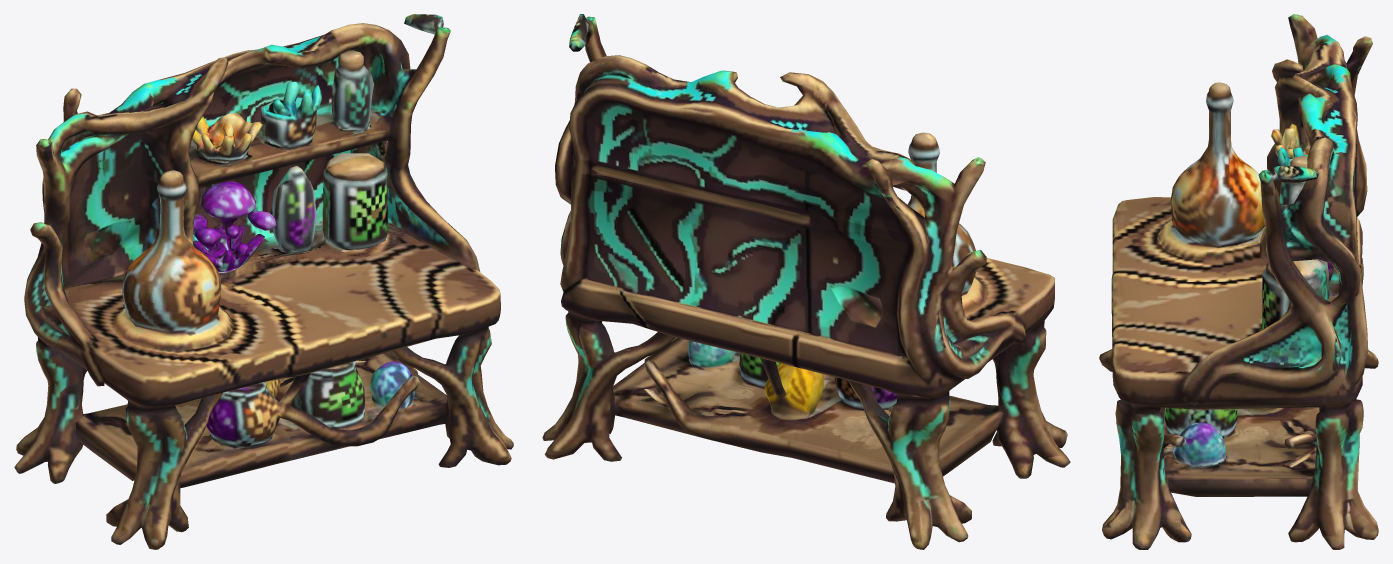
Rendered from alchemists-curio-cab.glb.
The picture shows the model from 3 angles, left to right: view 1: azimuth 30°, elevation 25°; view 2: azimuth 150°, elevation 25°; view 3: azimuth 270°, elevation 25°; orthographic projection. The views are drawn at different scales.
Size of the model in its own units: 1.9 by 1.74 by 1.15.
Materials: 1 (1 with a texture image).
